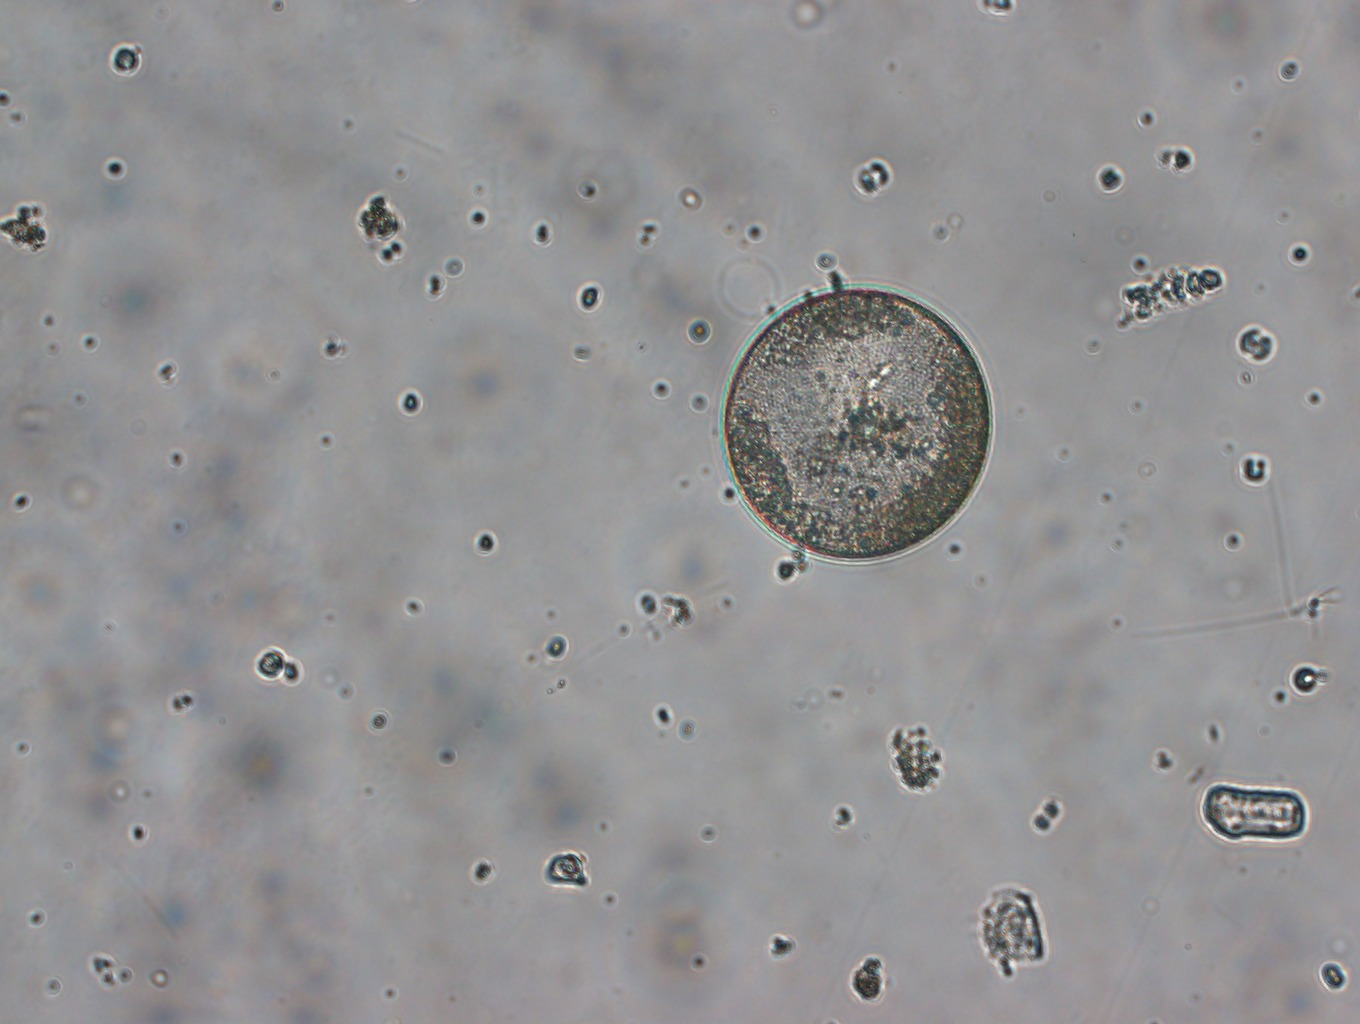coscinodiscus: (721, 279, 1000, 565)
